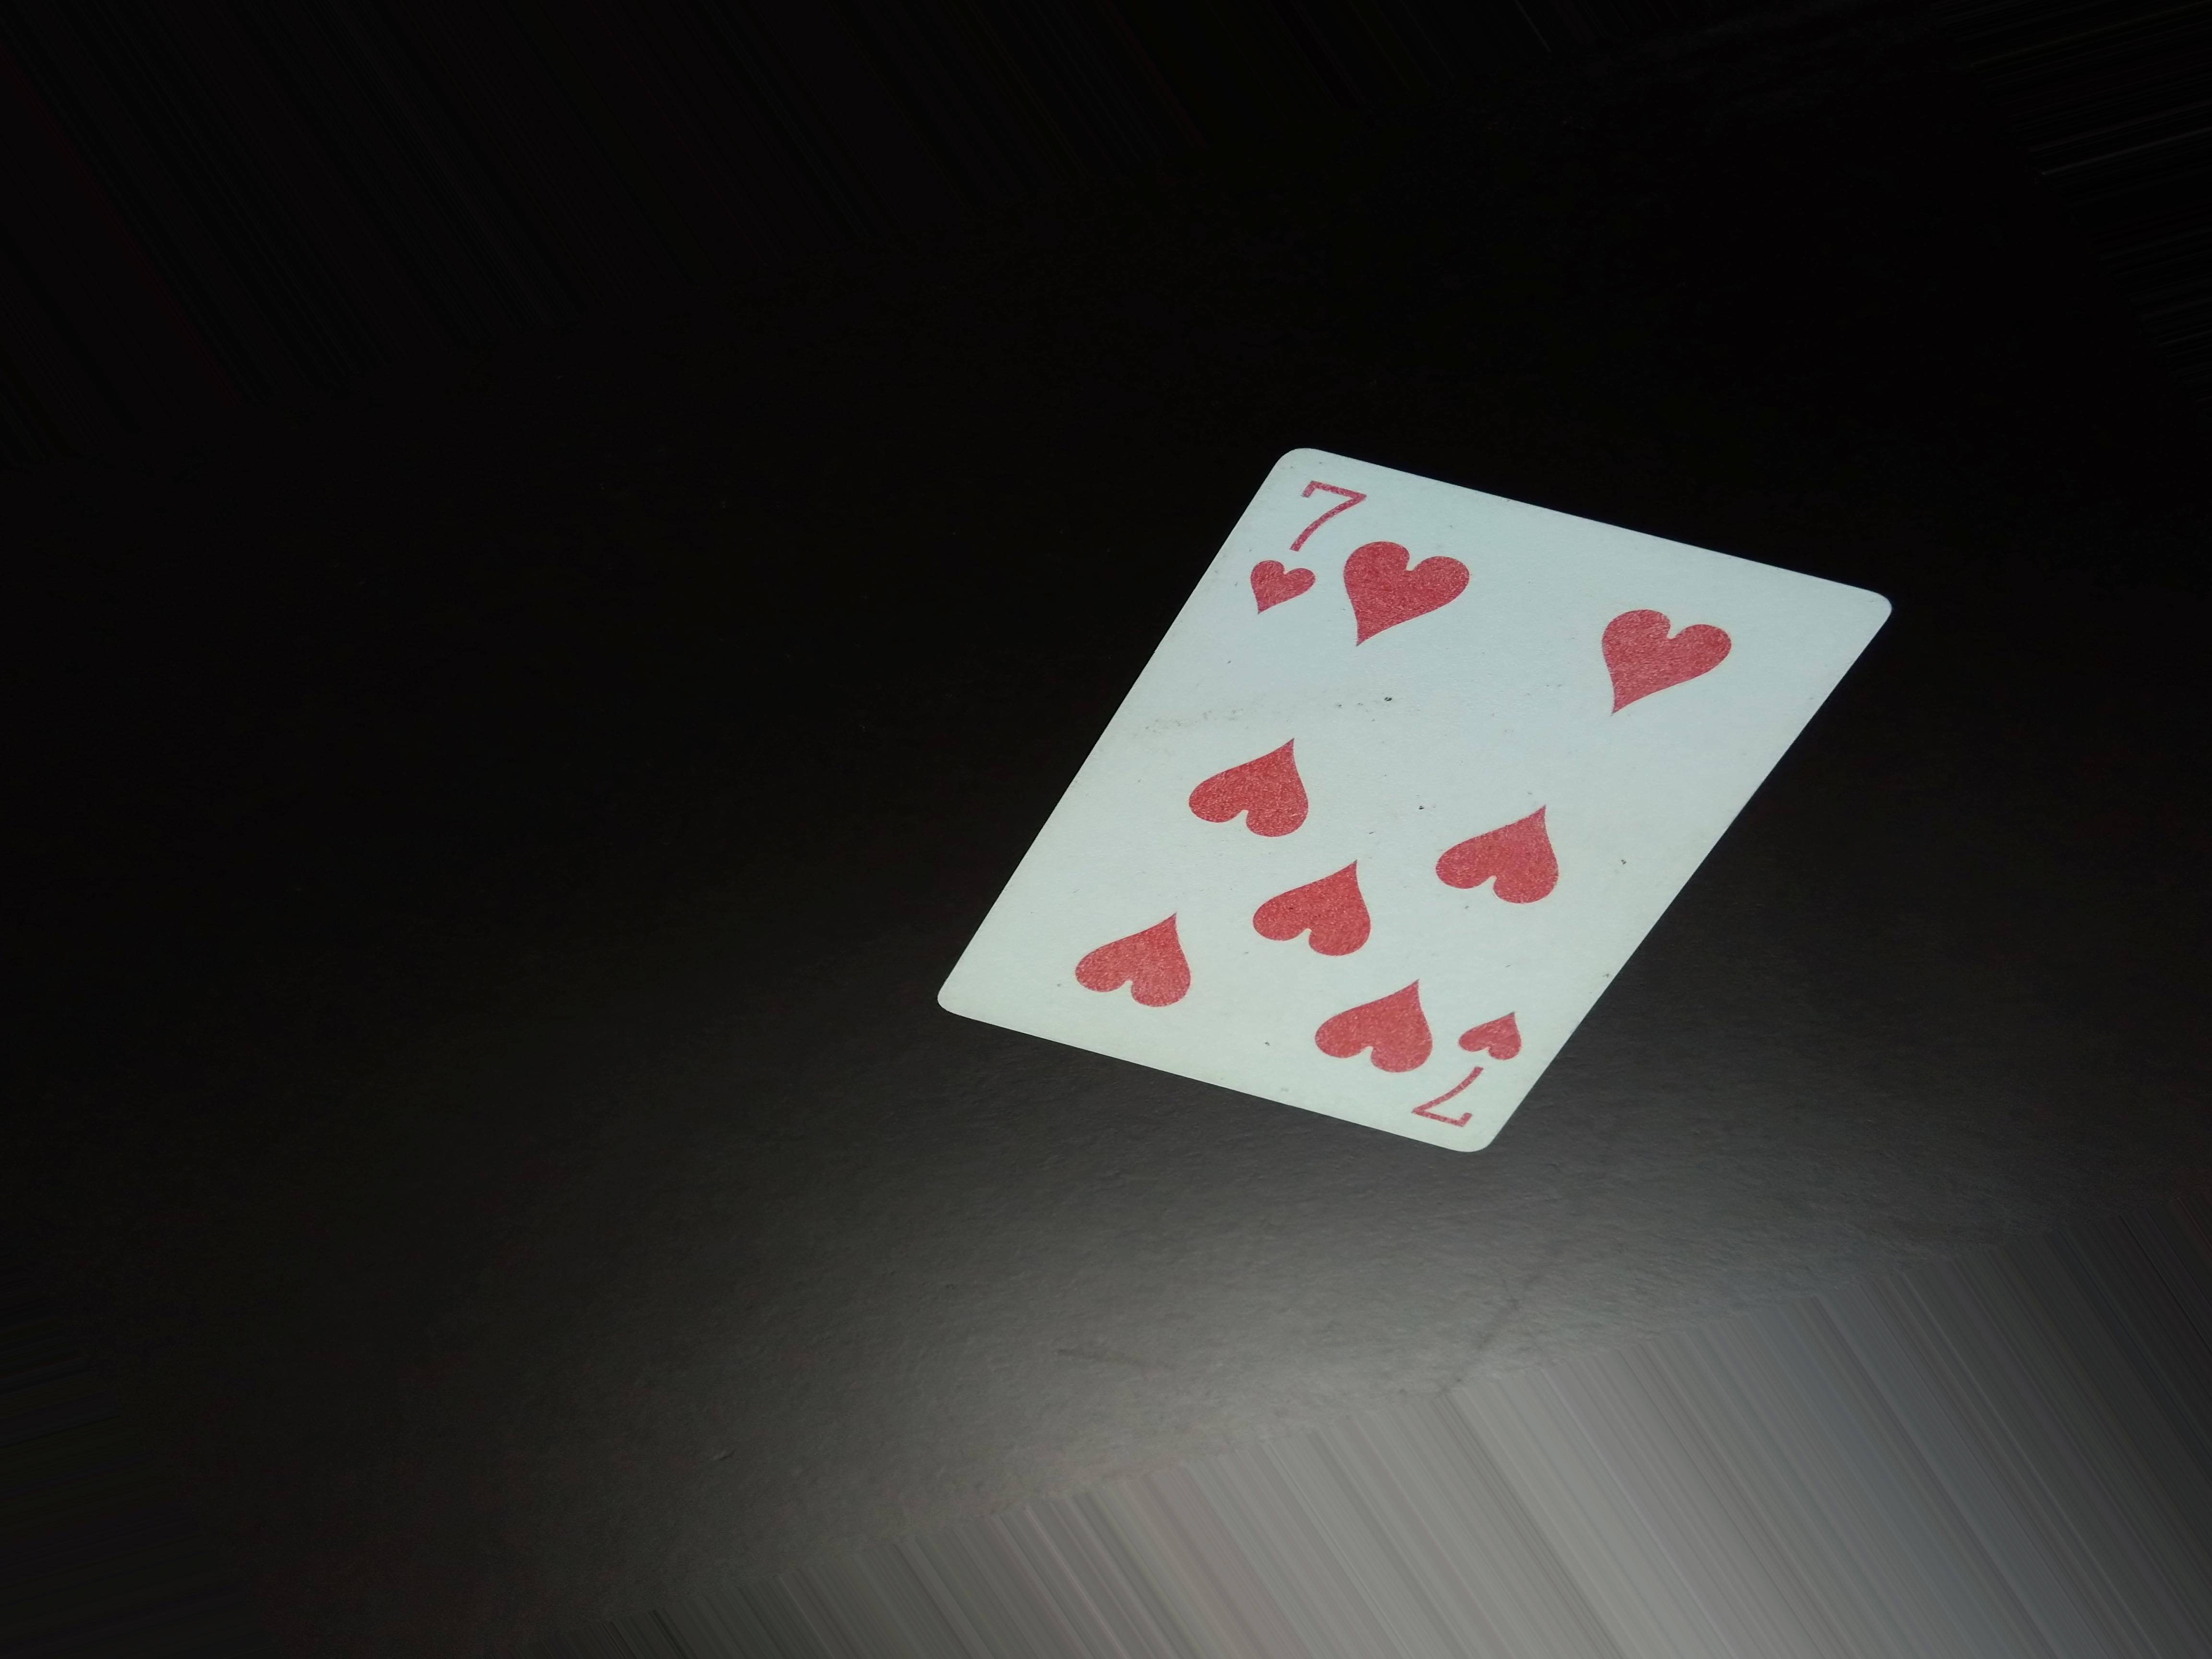7H: (1240, 465, 1371, 641)
